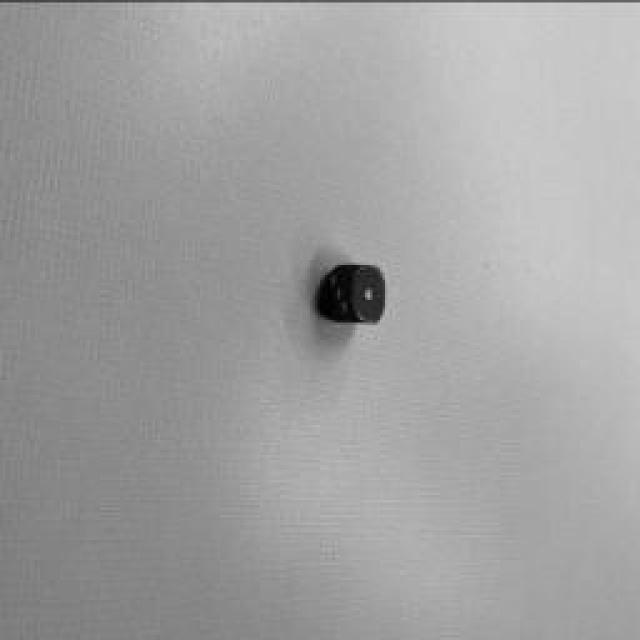dice_1: (352, 264, 388, 324)
